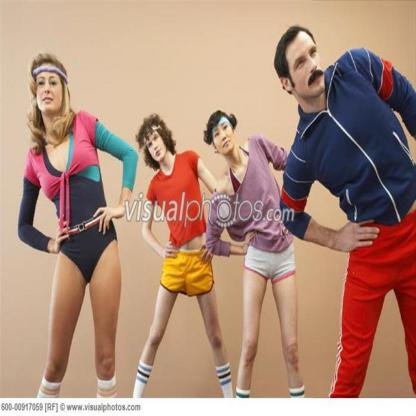face: (288, 33, 327, 98), (35, 66, 66, 109), (211, 115, 236, 154), (145, 126, 167, 162)
